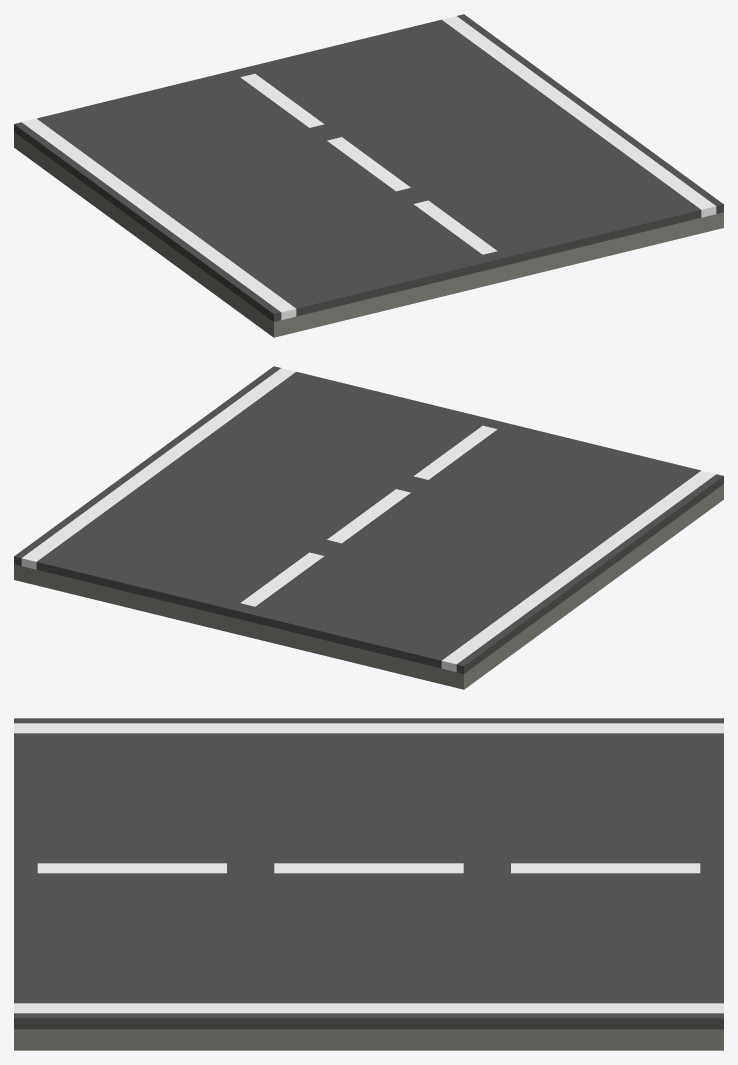
Rendered from dash-road.glb.
3 renders of one model, top to bottom at view 1: azimuth 30°, elevation 25°; view 2: azimuth 150°, elevation 25°; view 3: azimuth 270°, elevation 25°, orthographic. The views are drawn at different scales.
Parts seen in each view (by area): view 1: dash; view 2: dash; view 3: dash.
Part boxes in pixels (left/top/right/bottom): dash: left=14, top=14, right=723, bottom=337; dash: left=14, top=366, right=723, bottom=689; dash: left=14, top=718, right=723, bottom=1050.
Bounding box in the file's own units: 1 × 0.05 × 1.
1 material, 1 textured.
